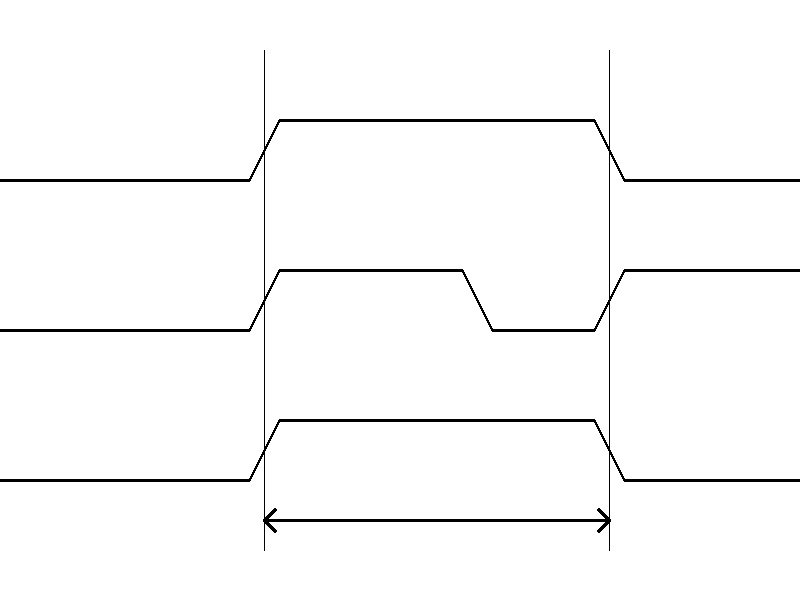double_arrow: (264, 505, 609, 535)
